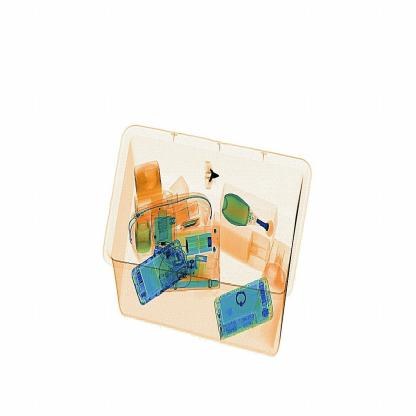gun: (201, 154, 229, 193)
